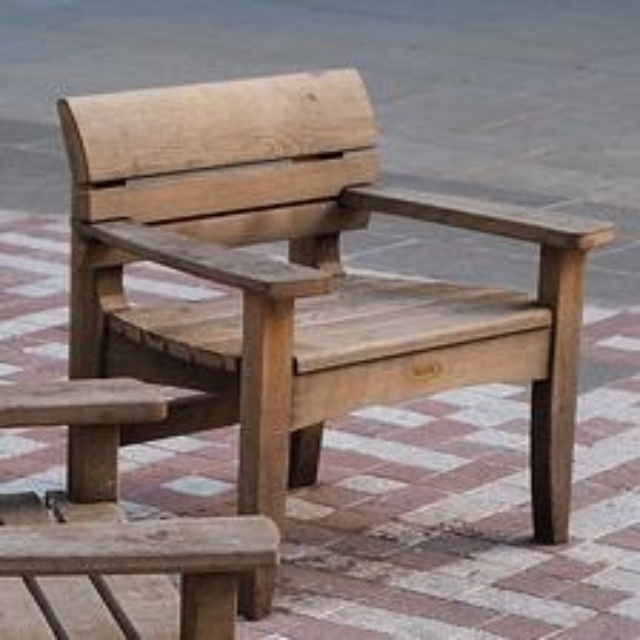obstacle: (57, 68, 611, 541)
